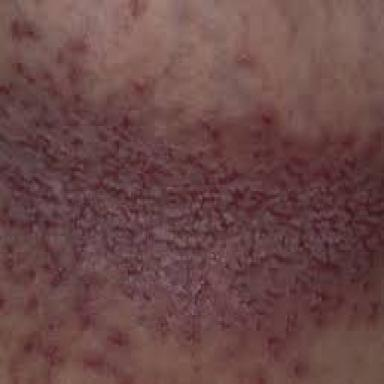Darier_s-Disease: (0, 9, 384, 384)
